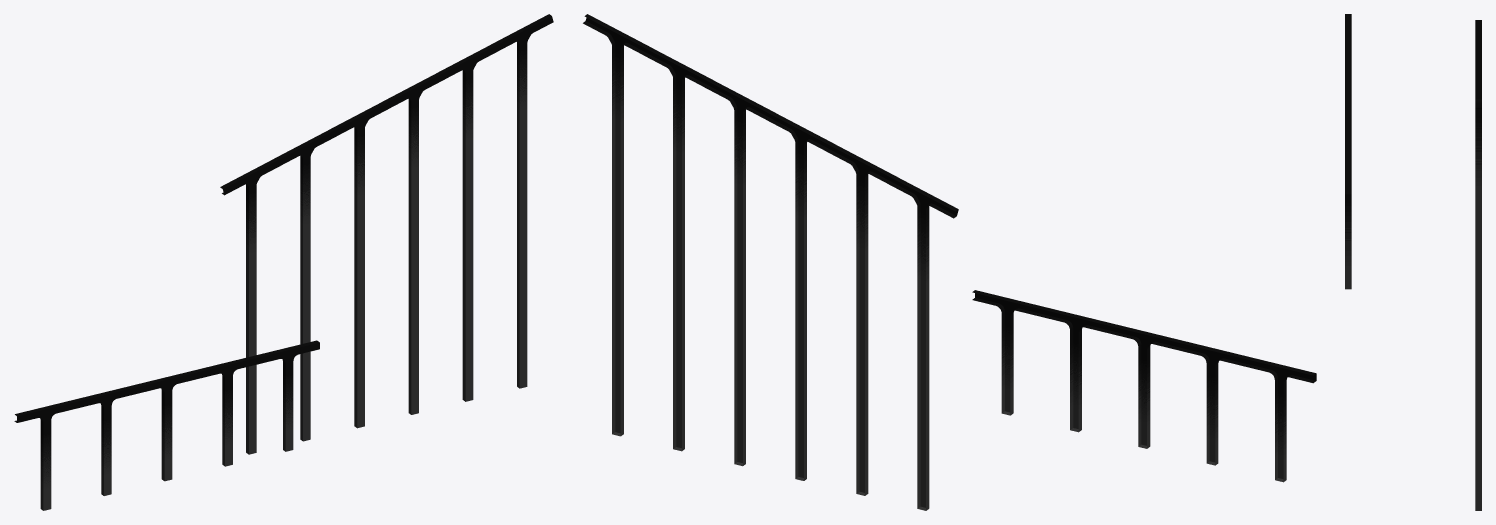
The model's file is Arcos Fondo.fbx.
The picture shows the model from 3 angles, left to right: view 1: azimuth 30°, elevation 25°; view 2: azimuth 150°, elevation 25°; view 3: azimuth 270°, elevation 25°; orthographic projection. The views are drawn at different scales.
Visible parts, largest first — view 1: Cube, Cube.001; view 2: Cube, Cube.001; view 3: Cube, Cube.001.
Boxes of the visible parts, x1,y1,x2,y2 form: Cube: (220,14,553,454); Cube.001: (14,340,319,510); Cube: (583,14,958,510); Cube.001: (972,290,1316,482); Cube: (1475,20,1481,510); Cube.001: (1345,14,1351,289).
Size of the model in its own units: 1227 by 722 by 210.
